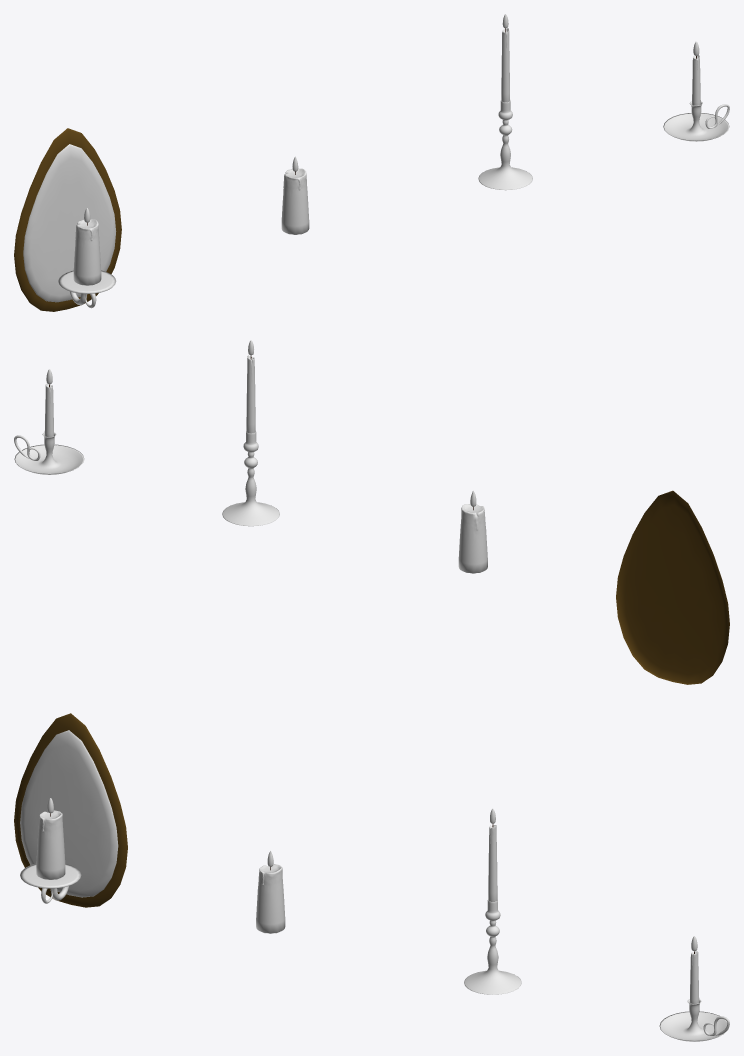
The model's file is uploads_files_2987368_Candles.fbx.
The picture shows the model from 3 angles, top to bottom: view 1: azimuth 30°, elevation 25°; view 2: azimuth 150°, elevation 25°; view 3: azimuth 330°, elevation 25°; orthographic projection. The views are drawn at different scales.
Visible parts, largest first — view 1: Wall_Chandelier, ChandelierStanding, Candle_HD.003, Candle_HD, ChandelierEar, Candle_HD.001; view 2: Wall_Chandelier, ChandelierStanding, Candle_HD, ChandelierEar, Candle_HD.001; view 3: Wall_Chandelier, ChandelierStanding, Candle_HD, Candle_HD.003, ChandelierEar, Candle_HD.001.
Boxes of the visible parts, bbox=[...] form: Wall_Chandelier: bbox=[14, 128, 121, 311]; ChandelierStanding: bbox=[478, 100, 532, 190]; Candle_HD.003: bbox=[73, 219, 101, 285]; Candle_HD: bbox=[281, 168, 309, 234]; ChandelierEar: bbox=[663, 101, 729, 141]; Candle_HD.001: bbox=[501, 28, 509, 102]; Wall_Chandelier: bbox=[616, 490, 729, 684]; ChandelierStanding: bbox=[222, 431, 279, 526]; Candle_HD: bbox=[458, 504, 487, 573]; ChandelierEar: bbox=[14, 432, 84, 474]; Candle_HD.001: bbox=[246, 355, 255, 433]; Wall_Chandelier: bbox=[14, 713, 127, 907]; ChandelierStanding: bbox=[464, 899, 521, 994]; Candle_HD: bbox=[256, 864, 285, 933]; Candle_HD.003: bbox=[36, 810, 65, 879]; ChandelierEar: bbox=[659, 999, 728, 1041]; Candle_HD.001: bbox=[488, 825, 497, 901].
Bounding box in the file's own units: 641 × 182 × 57.25.
